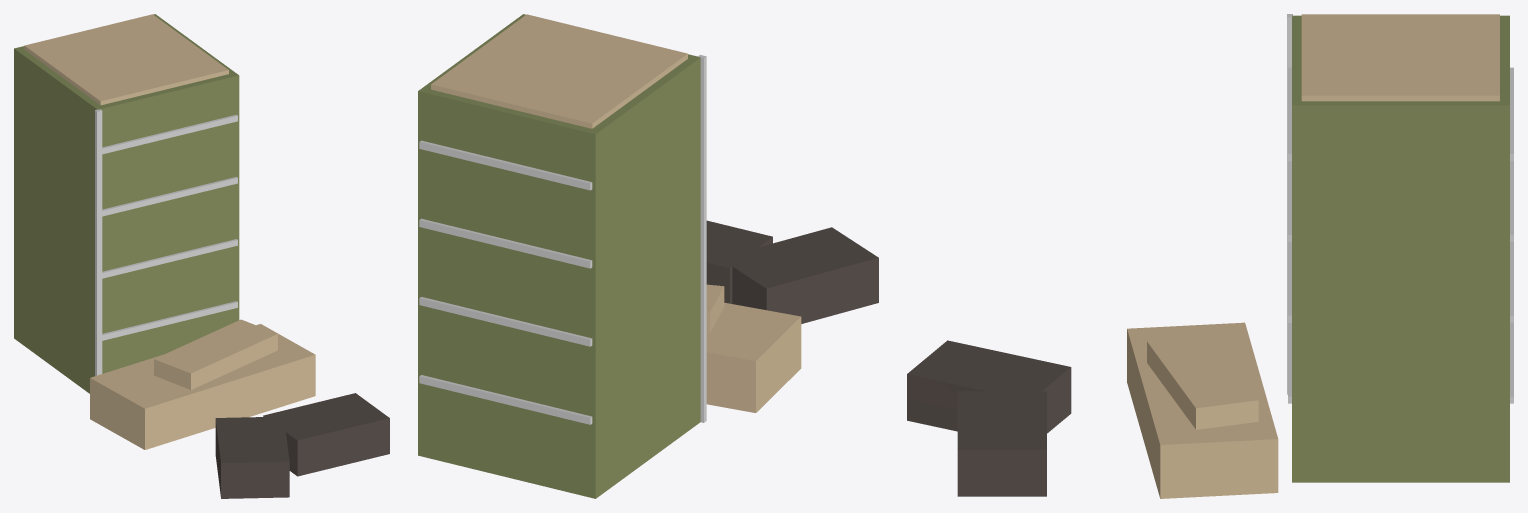
Rendered from SM_HescoCorto1_v2_Escalonado_e1_Danado_LOD0.fbx.
3 views of the same model, side by side, from view 1: azimuth 30°, elevation 25°; view 2: azimuth 150°, elevation 25°; view 3: azimuth 270°, elevation 25° (orthographic). The views are drawn at different scales.
Visible parts, largest first — view 1: SM_hesco_piezas_v49_LOD0; view 2: SM_hesco_piezas_v49_LOD0; view 3: SM_hesco_piezas_v49_LOD0.
Boxes of the visible parts, <box> form: SM_hesco_piezas_v49_LOD0: <box>14,14,389,498</box>; SM_hesco_piezas_v49_LOD0: <box>418,14,878,498</box>; SM_hesco_piezas_v49_LOD0: <box>907,14,1513,498</box>.
Bounding box in the file's own units: 1.46 × 2.13 × 3.06.
